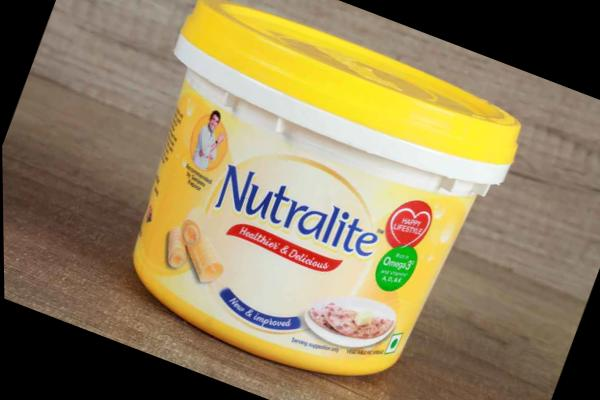plastic: (74, 0, 537, 400)
